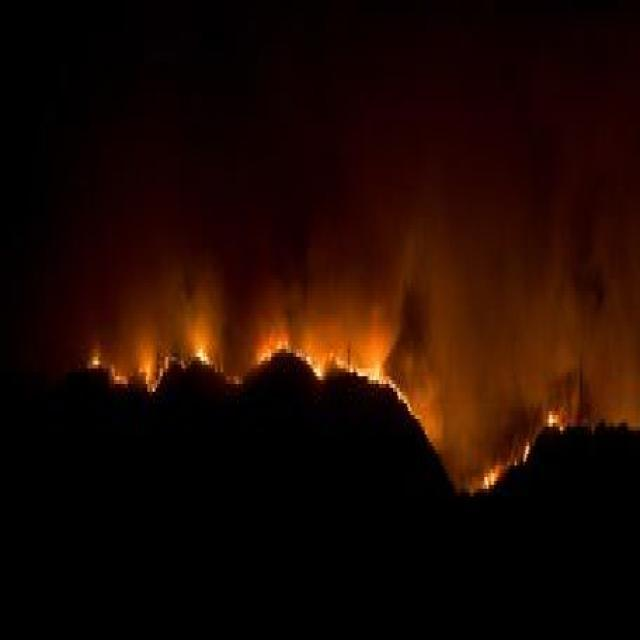Fire: (256, 338, 424, 458), (81, 330, 236, 408), (476, 412, 578, 501)
Smoke: (271, 136, 636, 423), (105, 268, 229, 350)
